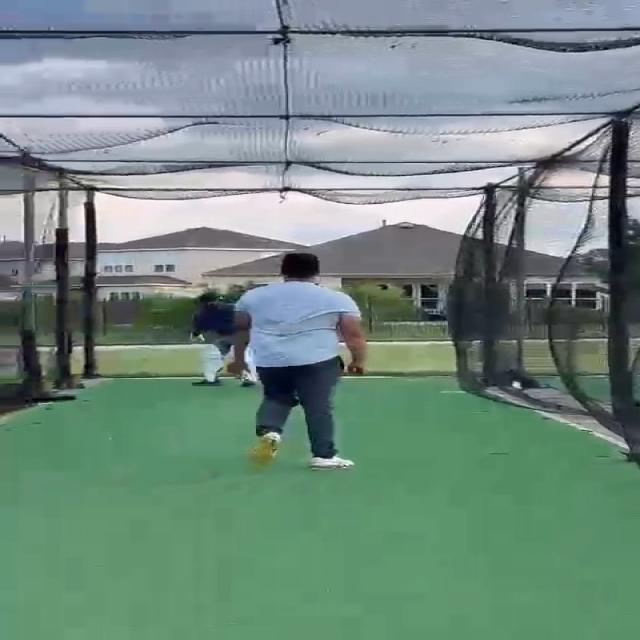batsman: (188, 291, 260, 388)
